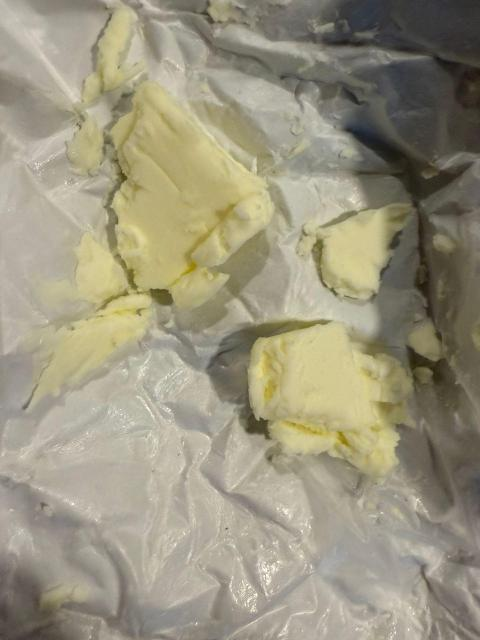Organik: (96, 85, 281, 303), (244, 319, 405, 465), (296, 188, 432, 300), (24, 295, 149, 415), (65, 16, 161, 100), (60, 105, 111, 176), (71, 235, 131, 287), (404, 317, 451, 369), (190, 0, 262, 26)
